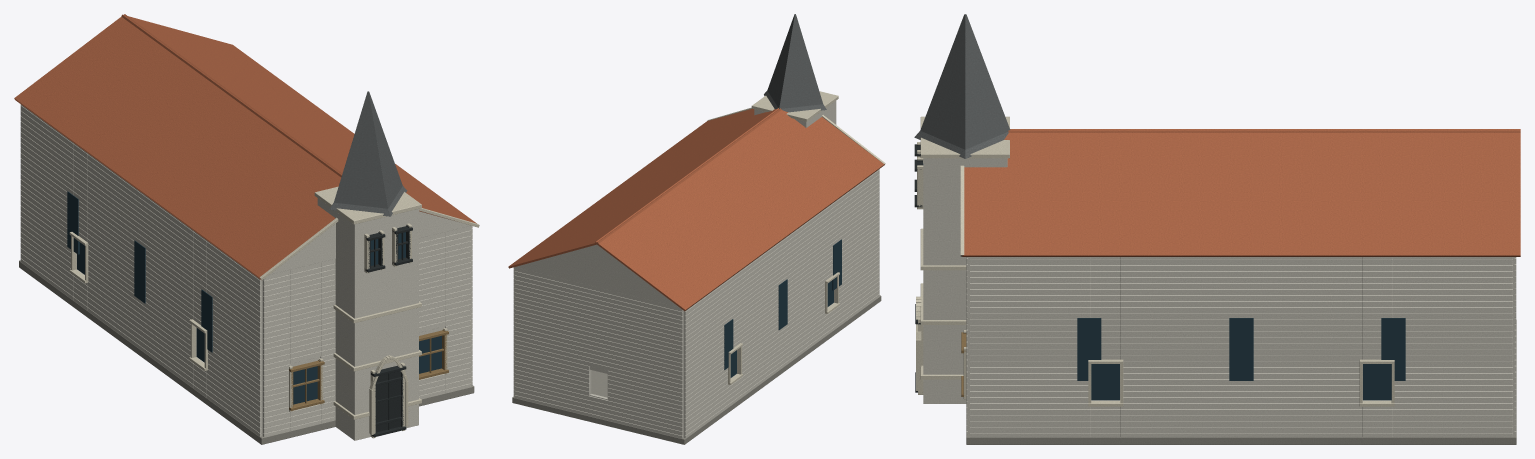
The model's file is CHURCH2_lod1.glb.
3 views of the same model, side by side, from view 1: azimuth 30°, elevation 25°; view 2: azimuth 150°, elevation 25°; view 3: azimuth 270°, elevation 25° (orthographic). The views are drawn at different scales.
Parts seen in each view (by area): view 1: CHURCH2_LOD1; view 2: CHURCH2_LOD1; view 3: CHURCH2_LOD1.
Part boxes in pixels (x1=…): CHURCH2_LOD1: x1=14, y1=14, x2=479, y2=444; CHURCH2_LOD1: x1=508, y1=14, x2=885, y2=444; CHURCH2_LOD1: x1=914, y1=14, x2=1520, y2=444.
Size of the model in its own units: 9.51 by 13.6 by 20.11.
Materials: 11 (9 with a texture image).
